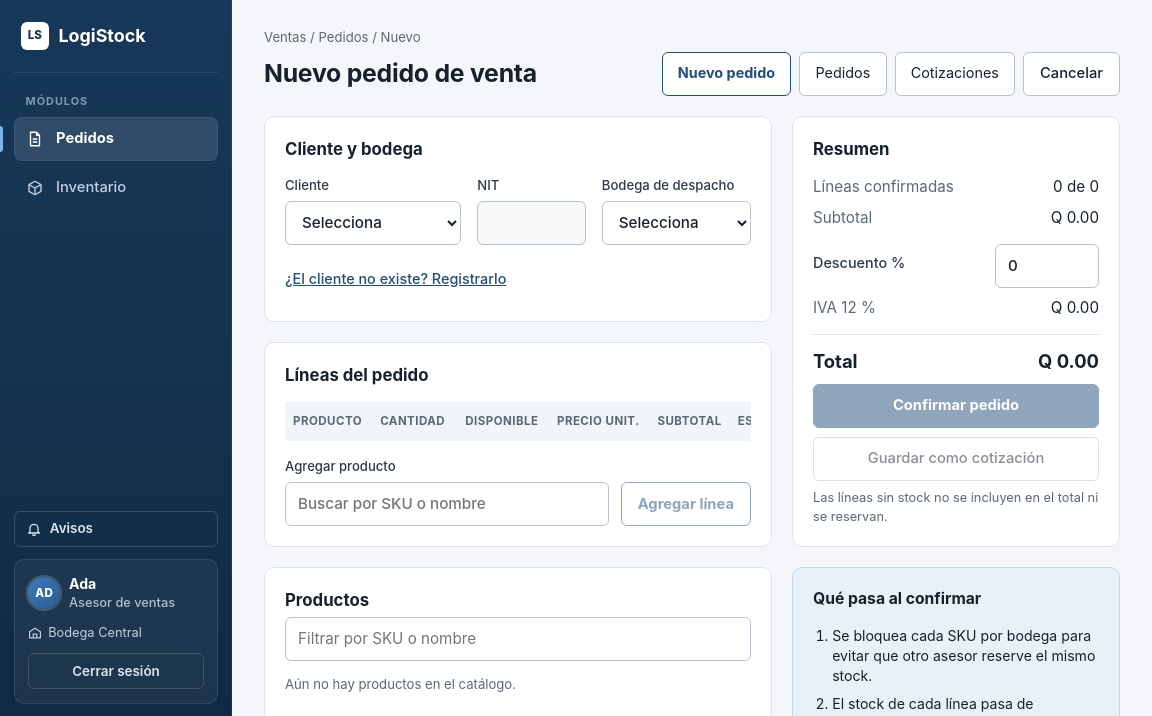
Test: shell PU-03 › cerrar sesión vuelve al formulario de entrada
Click the button "Cerrar sesión" at (116, 671), box x1=28 y1=653 x2=204 y2=689
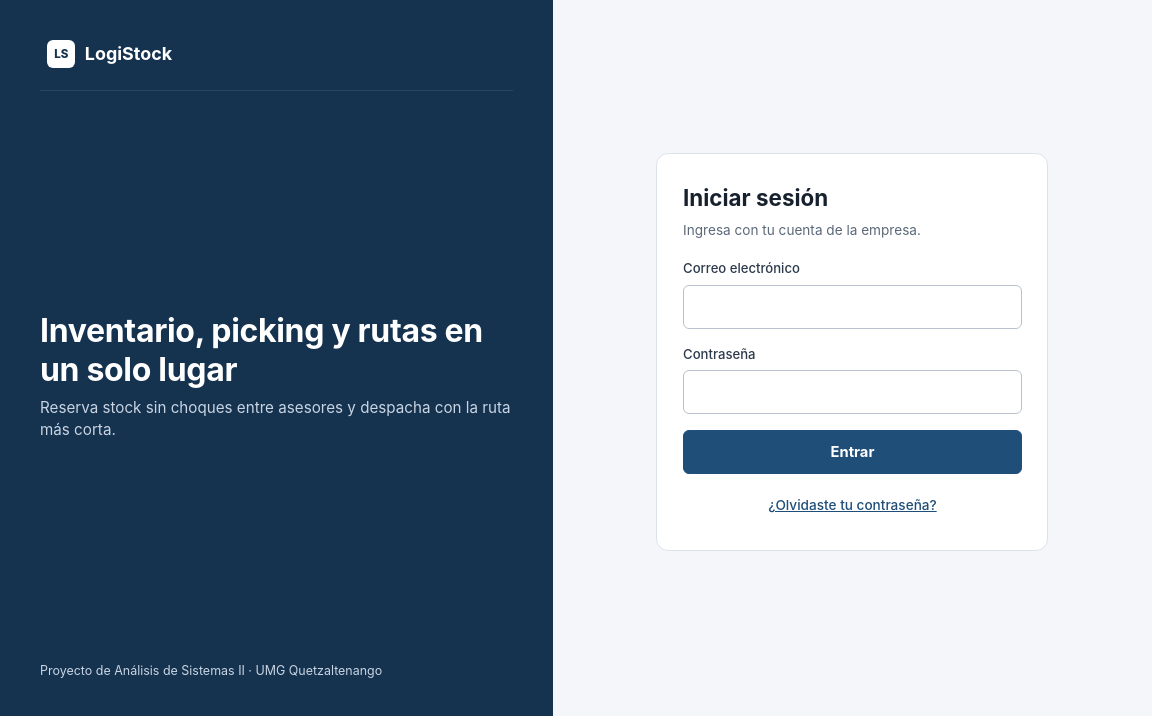
Now the button "Entrar" is shown, box x1=683 y1=430 x2=1022 y2=474
